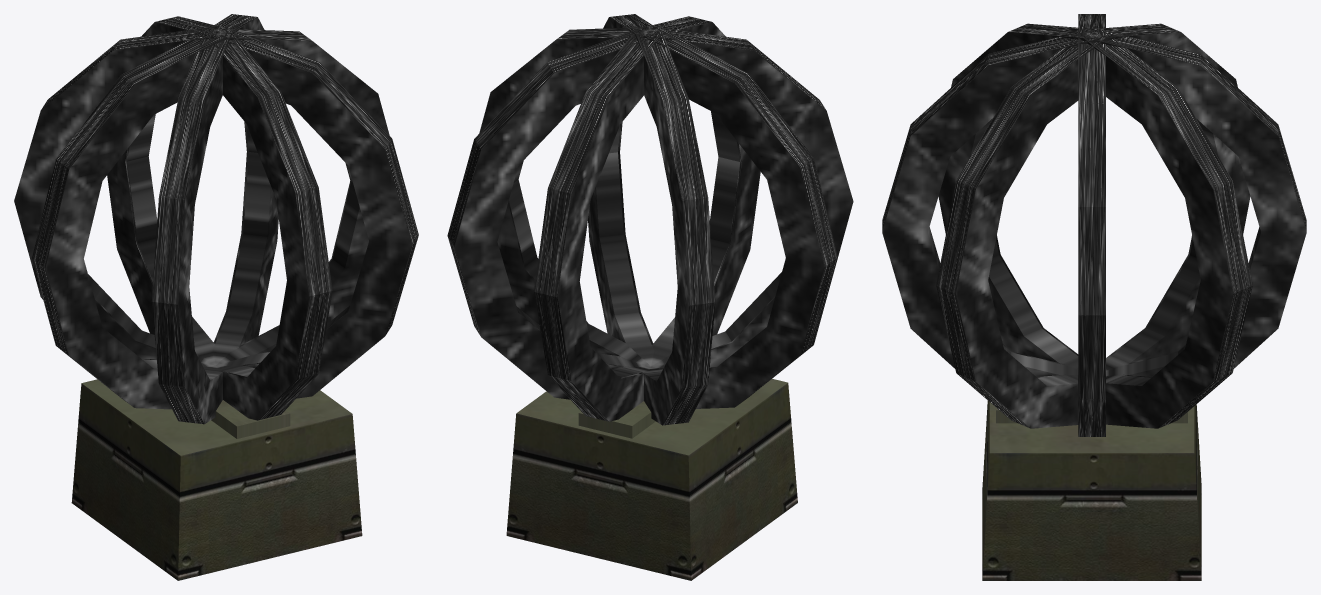
File: rep_reator.dae
3 views of the same model, side by side, from view 1: azimuth 30°, elevation 25°; view 2: azimuth 150°, elevation 25°; view 3: azimuth 270°, elevation 25° (orthographic). The views are drawn at different scales.
Visible parts, largest first — view 1: reator; view 2: reator; view 3: reator.
Part boxes in pixels (x1=…): reator: x1=14, y1=14, x2=418, y2=580; reator: x1=447, y1=14, x2=853, y2=580; reator: x1=882, y1=14, x2=1306, y2=580.
Bounding box in the file's own units: 19.68 × 19.68 × 25.64.
